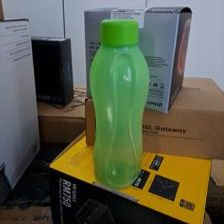bottle: (88, 16, 151, 189)
